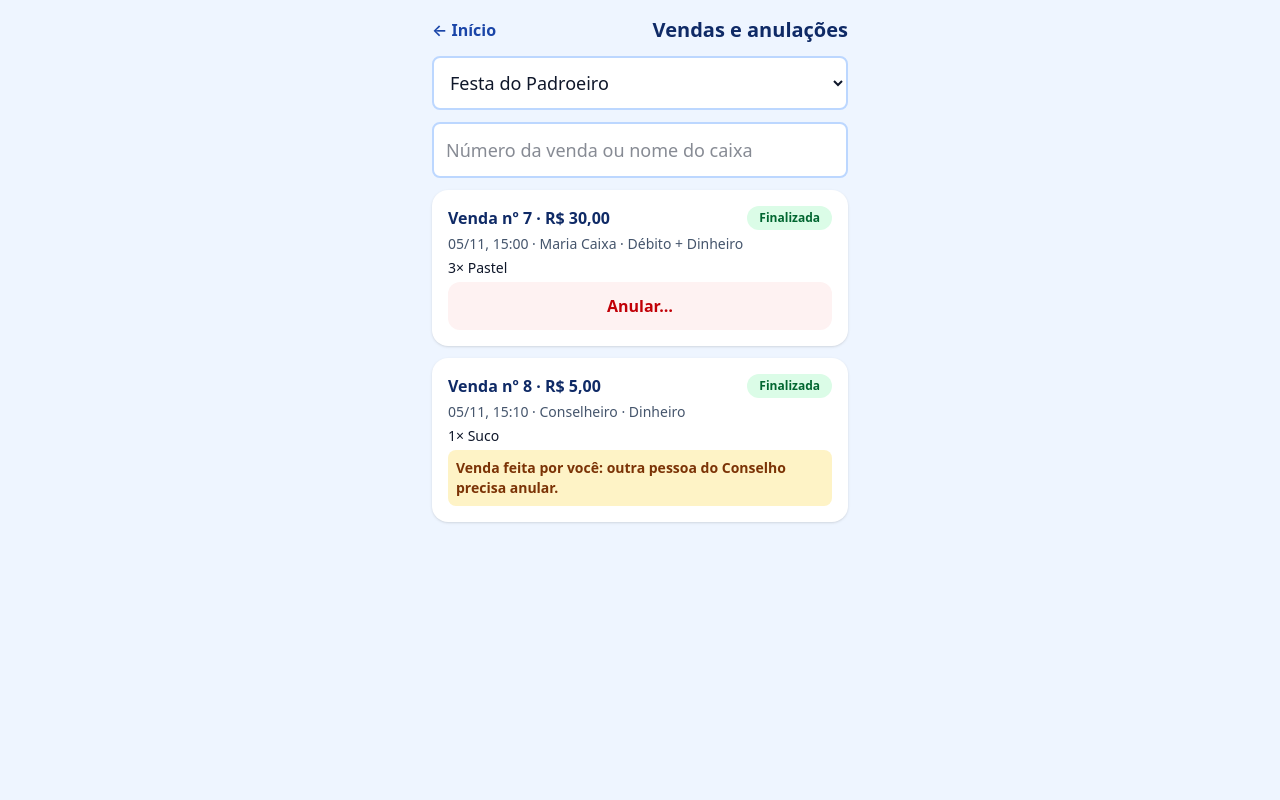
Test: vendas e anulações (Conselho) › anula parte da venda: sugere devolver em dinheiro, exige motivo e manda os itens, devoluções e estoque
The image size is (1280, 800).
Expected: the text "Venda nº 7 · R$ 30,00" is shown, [448,206,610,230]
Click the button "Anular…" at (640, 306), box [448,282,832,330]
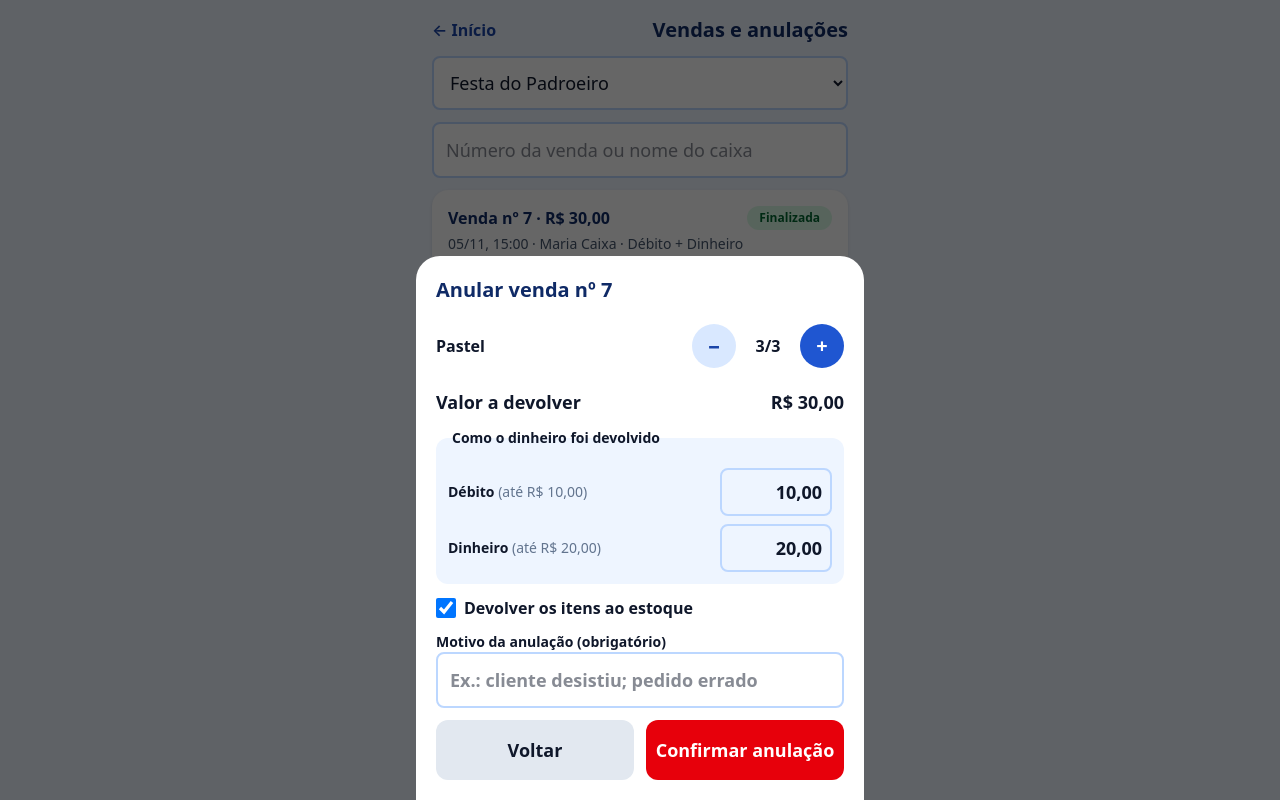
Click the button named "Menos Pastel" at (714, 346), box [692,324,736,368]
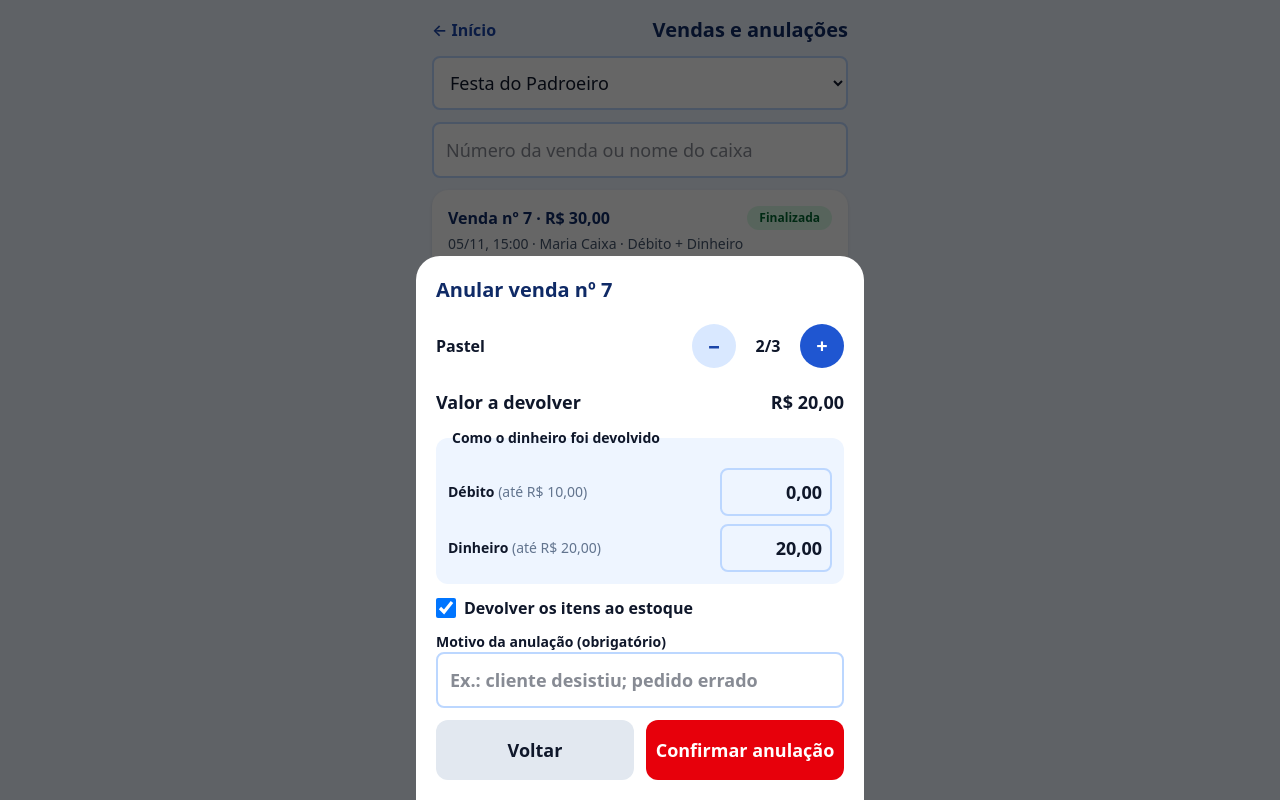
Click the button named "Menos Pastel" at (714, 346), box [692,324,736,368]
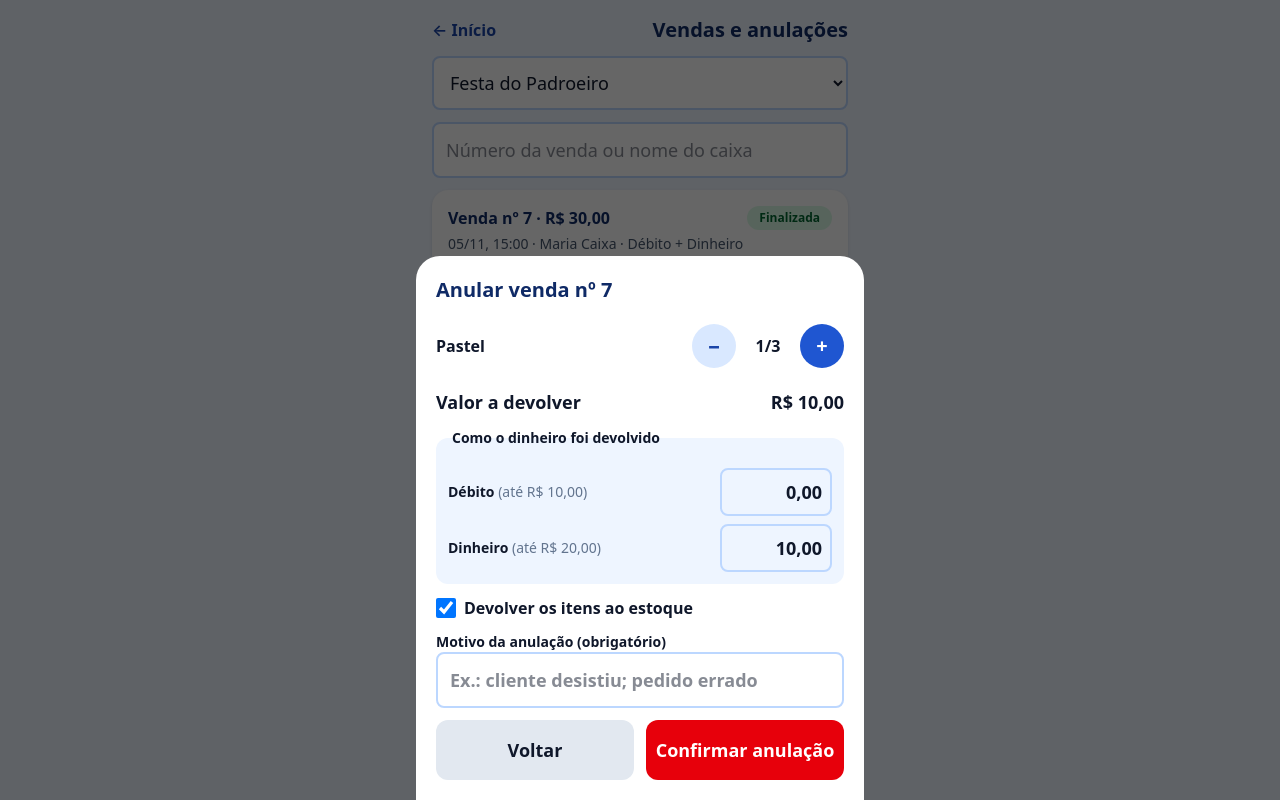
Now the field named "Devolvido em Dinheiro" holds "10,00", box [720,524,832,572]
Click the button "Confirmar anulação" at (745, 750), box [646,720,844,780]
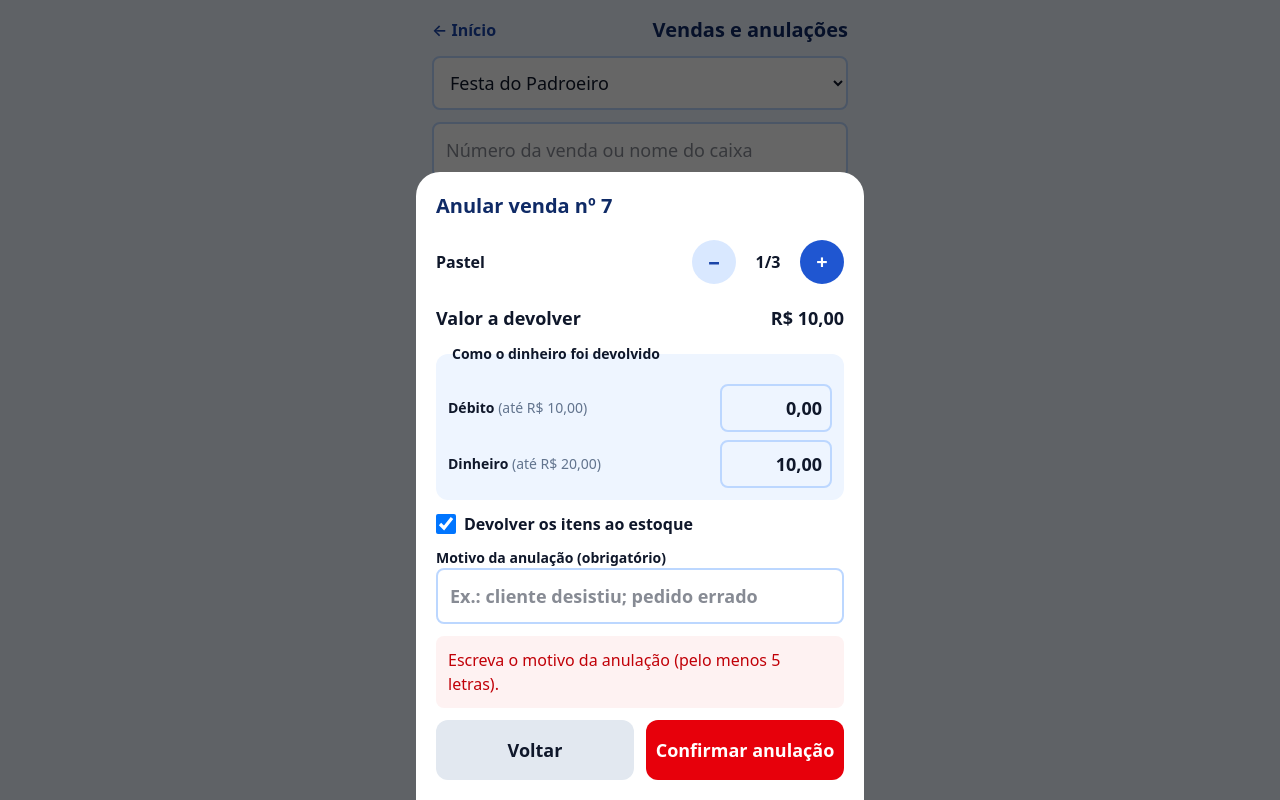
Now the message shows "motivo", box [448,649,780,695]
Type "cliente devolveu" into the field labelled "Motivo da anulação" at (640, 596), box [436,568,844,624]
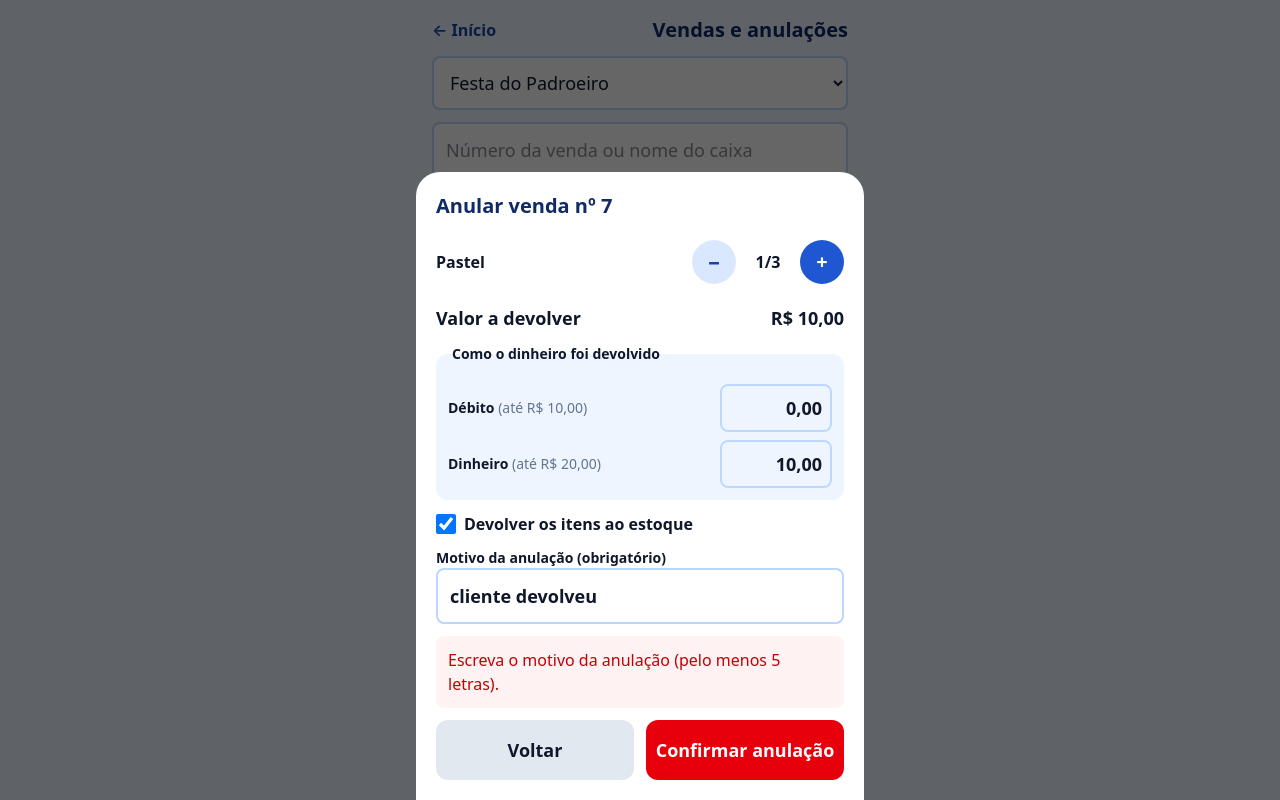
Click the button "Confirmar anulação" at (745, 750), box [646,720,844,780]
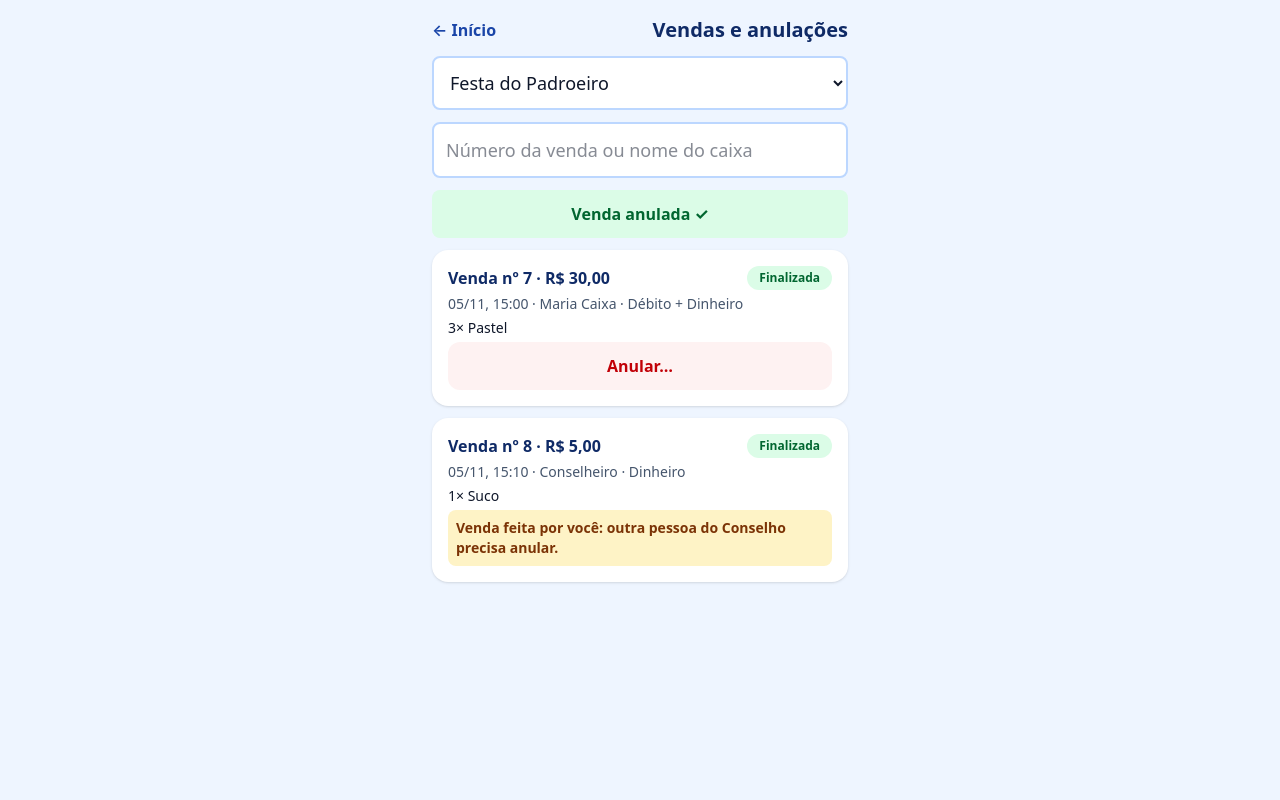
Now the text "Venda anulada ✓" is shown, box [432,190,848,238]
